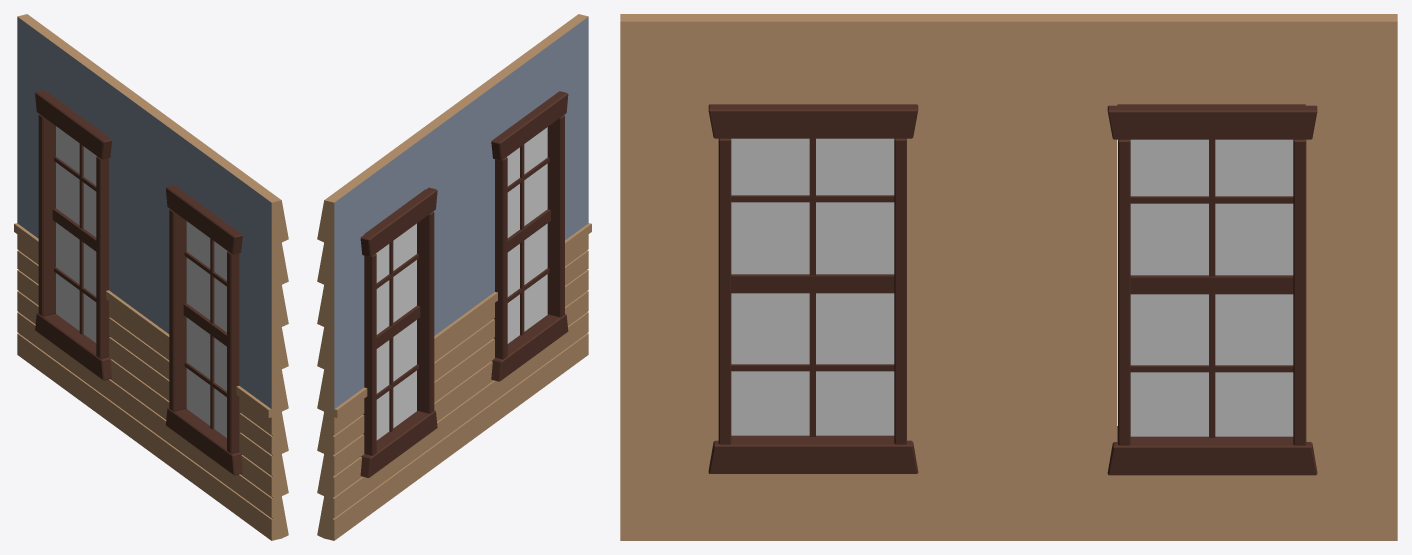
The model's file is Window C-col.glb.
3 renders of one model, left to right at view 1: azimuth 30°, elevation 25°; view 2: azimuth 150°, elevation 25°; view 3: azimuth 270°, elevation 25°, orthographic. The views are drawn at different scales.
Visible parts, largest first — view 1: Window C-col.001; view 2: Window C-col.001; view 3: Window C-col.001.
Part boxes in pixels (left/top/right/bottom): Window C-col.001: left=14, top=14, right=288, bottom=540; Window C-col.001: left=317, top=14, right=591, bottom=540; Window C-col.001: left=620, top=14, right=1397, bottom=540.
Size of the model in its own units: 0.1948 by 2.2 by 3.
